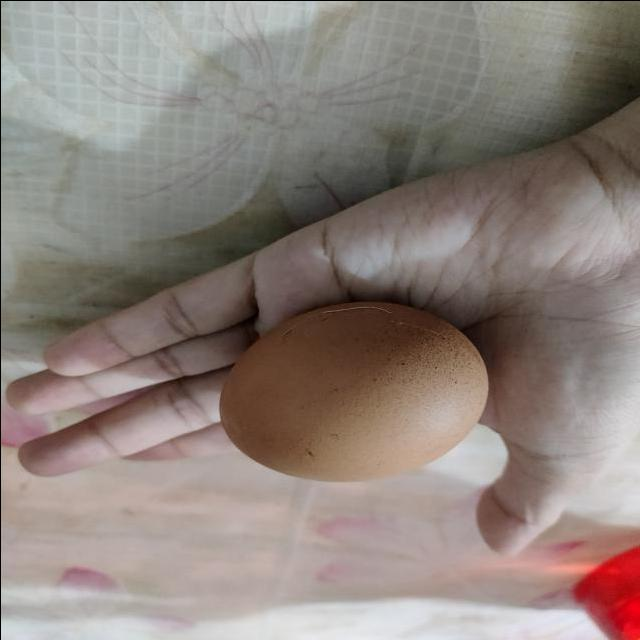egg: (209, 298, 493, 486)
